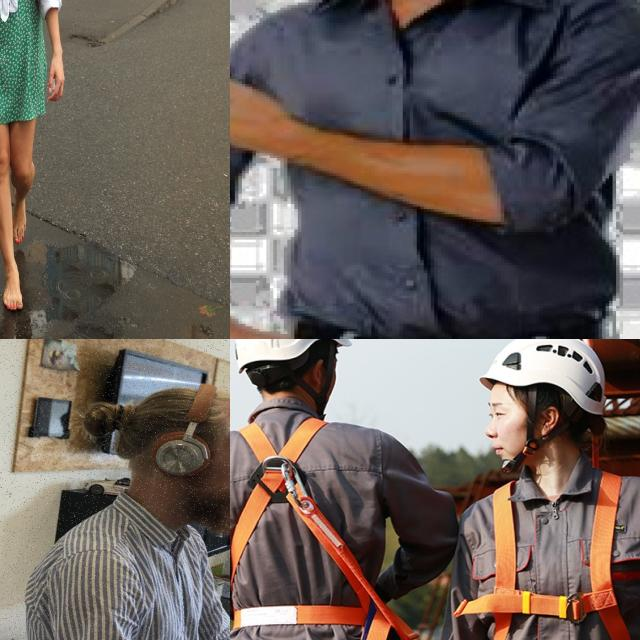Barefoots: (3, 266, 23, 310), (12, 185, 26, 245)
Ear-protection: (102, 370, 230, 532)
Harness: (230, 426, 390, 640), (455, 484, 623, 640)
No_Ear-Protection: (540, 406, 560, 436)
No_Glasses: (484, 401, 512, 427)
